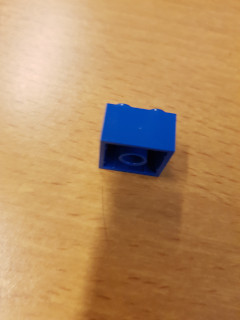2x2 blue: (97, 101, 177, 179)
